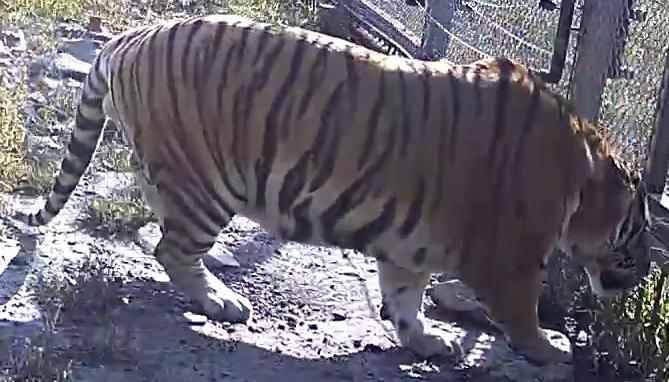tiger: (30, 15, 644, 361)
